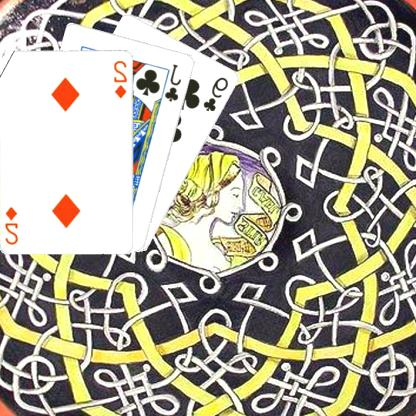2D: (4, 204, 21, 245), (114, 58, 130, 99)
9C: (202, 74, 232, 113)
JC: (164, 61, 184, 103)
